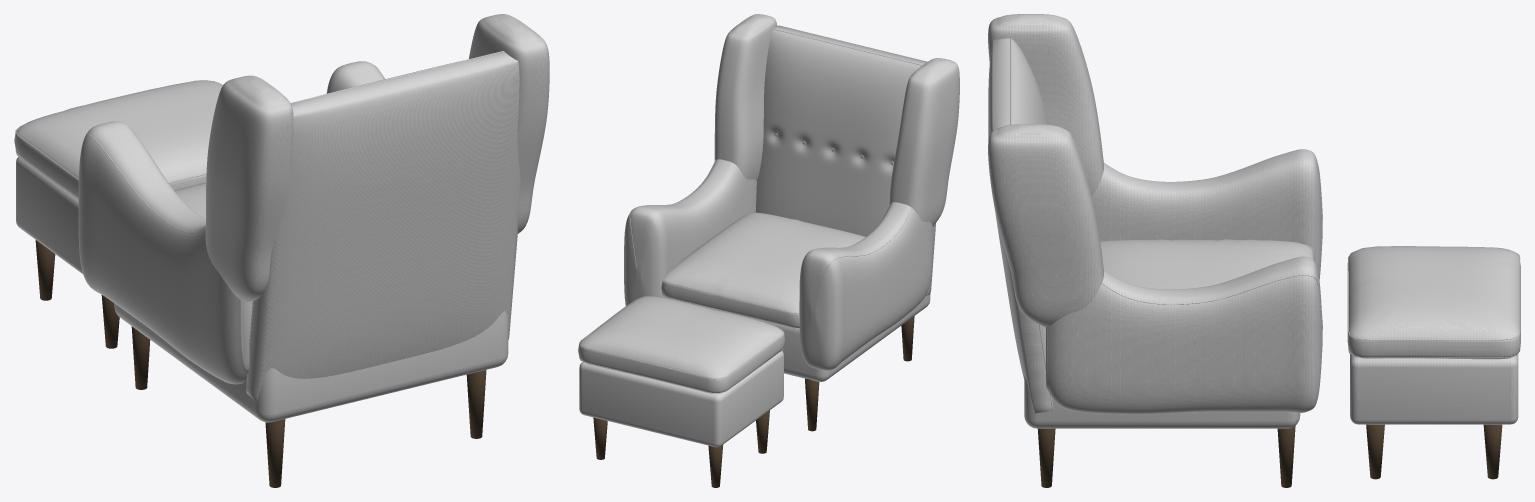
File: wingback-with-ottoman.glb
3 renders of one model, left to right at view 1: azimuth 30°, elevation 25°; view 2: azimuth 150°, elevation 25°; view 3: azimuth 270°, elevation 25°, orthographic. The views are drawn at different scales.
Parts seen in each view (by area): view 1: Tall padded back, Sculpted upholstered arm, Rounded upholstered back wing, Ottoman sewn top cushion, Padded chair foundation, Rounded upholstered back wing.001, Ottoman padded foundation, Sculpted upholstered arm.001, Wingback timber foot, Wingback timber foot.002, Wingback timber foot.001, Ottoman timber foot.001 (+2 smaller); view 2: Tall padded back, Sculpted upholstered arm, Ottoman sewn top cushion, Separate boxed seat cushion, Ottoman padded foundation, Sculpted upholstered arm.001, Rounded upholstered back wing, Rounded upholstered back wing.001, Padded chair foundation, Wingback timber foot.001, Ottoman timber foot.001, Ottoman timber foot.003 (+2 smaller); view 3: Sculpted upholstered arm.001, Ottoman sewn top cushion, Rounded upholstered back wing.001, Sculpted upholstered arm, Ottoman padded foundation, Rounded upholstered back wing, Separate boxed seat cushion, Tall padded back, Padded chair foundation, Wingback timber foot.003, Wingback timber foot.002, Ottoman timber foot.003 (+1 smaller).
Boxes of the visible parts, x1,y1,x2,y2 form: Tall padded back: (246,51,520,403); Sculpted upholstered arm: (78,121,252,384); Rounded upholstered back wing: (205,75,293,301); Ottoman sewn top cushion: (14,80,222,199); Padded chair foundation: (114,303,508,422); Rounded upholstered back wing.001: (469,14,549,233); Ottoman padded foundation: (16,156,82,273); Sculpted upholstered arm.001: (326,61,384,93); Wingback timber foot: (265,419,285,487); Wingback timber foot.002: (466,370,486,438); Wingback timber foot.001: (131,326,150,389); Ottoman timber foot.001: (35,240,55,300); Tall padded back: (755,25,935,296); Sculpted upholstered arm: (799,202,932,370); Ottoman sewn top cushion: (578,296,785,393); Separate boxed seat cushion: (661,212,865,327); Ottoman padded foundation: (579,351,783,447); Sculpted upholstered arm.001: (624,159,756,305); Rounded upholstered back wing: (889,58,959,226); Rounded upholstered back wing.001: (714,14,776,180); Padded chair foundation: (667,294,930,381); Wingback timber foot.001: (805,378,819,431); Ottoman timber foot.001: (708,445,723,487); Ottoman timber foot.003: (593,417,607,459); Sculpted upholstered arm.001: (1046,256,1322,414); Ottoman sewn top cushion: (1347,246,1520,359); Rounded upholstered back wing.001: (988,124,1103,327); Sculpted upholstered arm: (1092,149,1322,279); Ottoman padded foundation: (1350,354,1518,424); Rounded upholstered back wing: (988,14,1103,195); Separate boxed seat cushion: (1100,239,1314,289); Tall padded back: (988,38,1053,413); Padded chair foundation: (1024,376,1300,428); Wingback timber foot.003: (1277,426,1295,487); Wingback timber foot.002: (1038,428,1055,487); Ottoman timber foot.003: (1483,424,1502,479).
Size of the model in its own units: 0.8365 by 1.09 by 1.42.
Materials: 2 (1 with a texture image).
